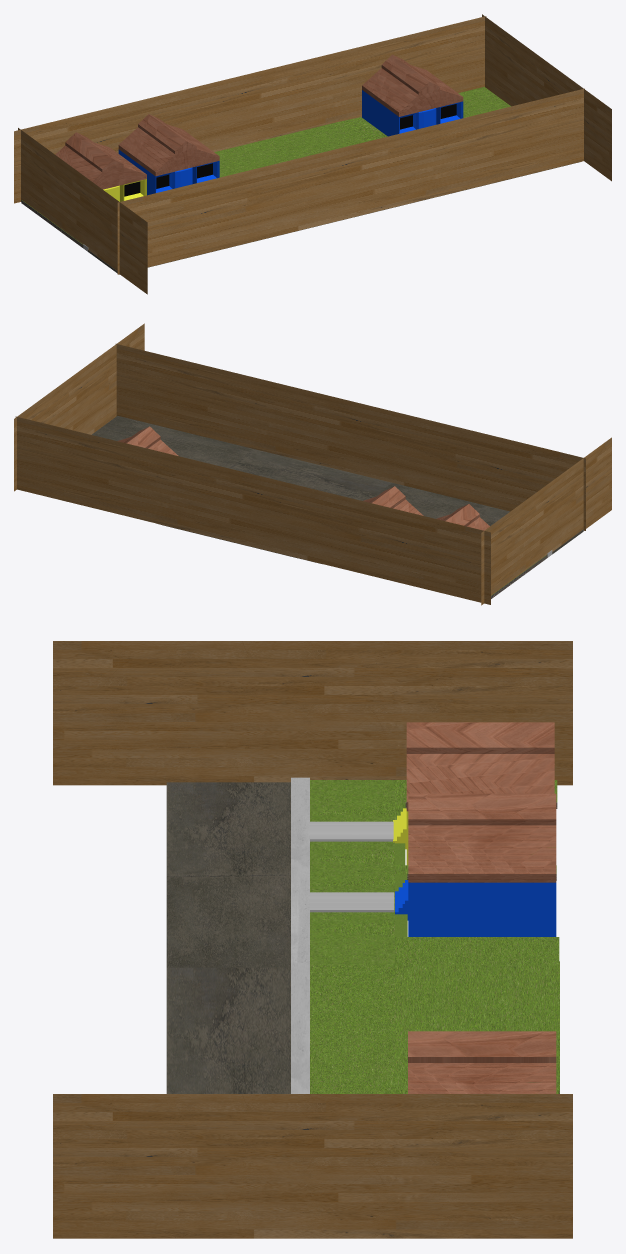
File: Map Basic.fbx
The picture shows the model from 3 angles, top to bottom: view 1: azimuth 30°, elevation 25°; view 2: azimuth 150°, elevation 25°; view 3: azimuth 270°, elevation 25°; orthographic projection. The views are drawn at different scales.
Visible parts, largest first — view 1: Plane.003, Plane, Plane.002, Plane.001, Cube.004, Cube.003, Cube.002, Cube.001, Cube; view 2: Plane, Plane.003, Plane.002, Cube.003, Plane.001, Cube, Cube.004, Cube.002, Cube.001; view 3: Plane.001, Plane.002, Cube, Cube.003, Cube.002, Cube.001, Cube.004.
Boxes of the visible parts, x1,y1,x2,y2 form: Plane.003: (117,88,584,274); Plane: (14,16,486,203); Plane.002: (18,128,147,294); Plane.001: (482,14,611,181); Cube.004: (362,54,463,136); Cube.003: (214,87,581,227); Cube.002: (118,114,219,195); Cube.001: (55,132,146,201); Cube: (21,159,308,274); Plane: (15,416,490,604); Plane.003: (116,344,585,530); Plane.002: (481,437,611,605); Cube.003: (91,415,391,558); Plane.001: (14,323,144,491); Cube: (298,483,583,598); Cube.004: (117,426,178,455); Cube.002: (363,486,423,515); Cube.001: (436,504,489,530); Plane.001: (53,1094,572,1238); Plane.002: (53,641,572,785); Cube: (166,777,559,967); Cube.003: (166,961,559,1093); Cube.002: (395,793,556,936); Cube.001: (393,722,554,865); Cube.004: (408,1031,556,1093).
Size of the model in its own units: 8401 by 1238 by 4003.
16 materials, 13 textured.
